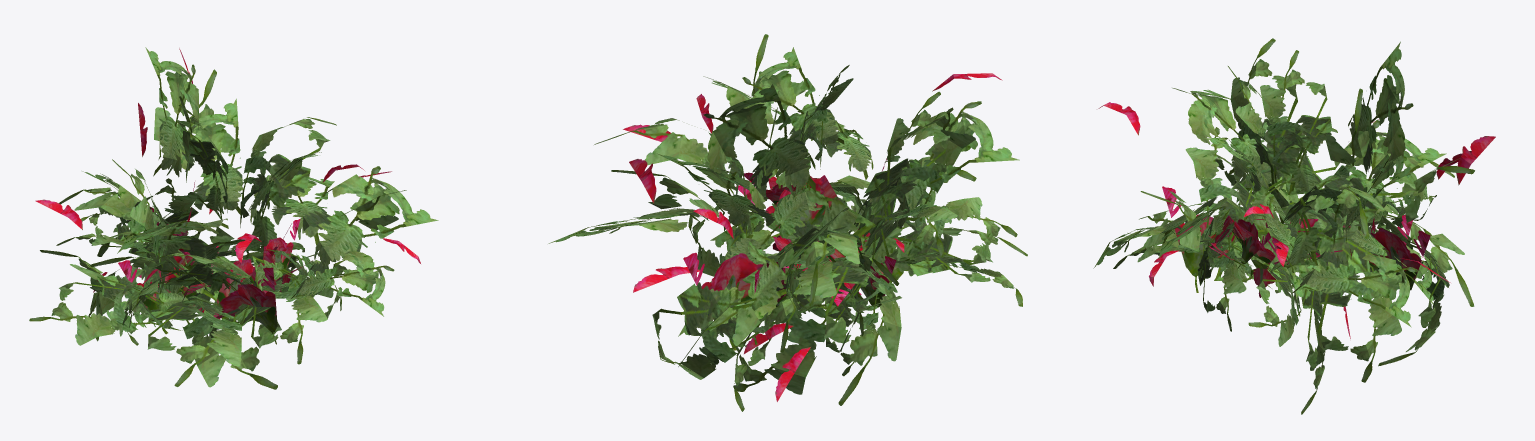
The model's file is bg_atm_foliage_flower02_sm_ksy.FBX.
The picture shows the model from 3 angles, left to right: view 1: azimuth 30°, elevation 25°; view 2: azimuth 150°, elevation 25°; view 3: azimuth 270°, elevation 25°; orthographic projection. The views are drawn at different scales.
Parts seen in each view (by area): view 1: bg_atm_foliage_flower02_sm_ksy; view 2: bg_atm_foliage_flower02_sm_ksy; view 3: bg_atm_foliage_flower02_sm_ksy.
Part boxes in pixels (left/top/right/bottom): bg_atm_foliage_flower02_sm_ksy: left=29, top=47, right=438, bottom=389; bg_atm_foliage_flower02_sm_ksy: left=548, top=34, right=1027, bottom=411; bg_atm_foliage_flower02_sm_ksy: left=1093, top=38, right=1495, bottom=414.
Size of the model in its own units: 159 by 145 by 150.
